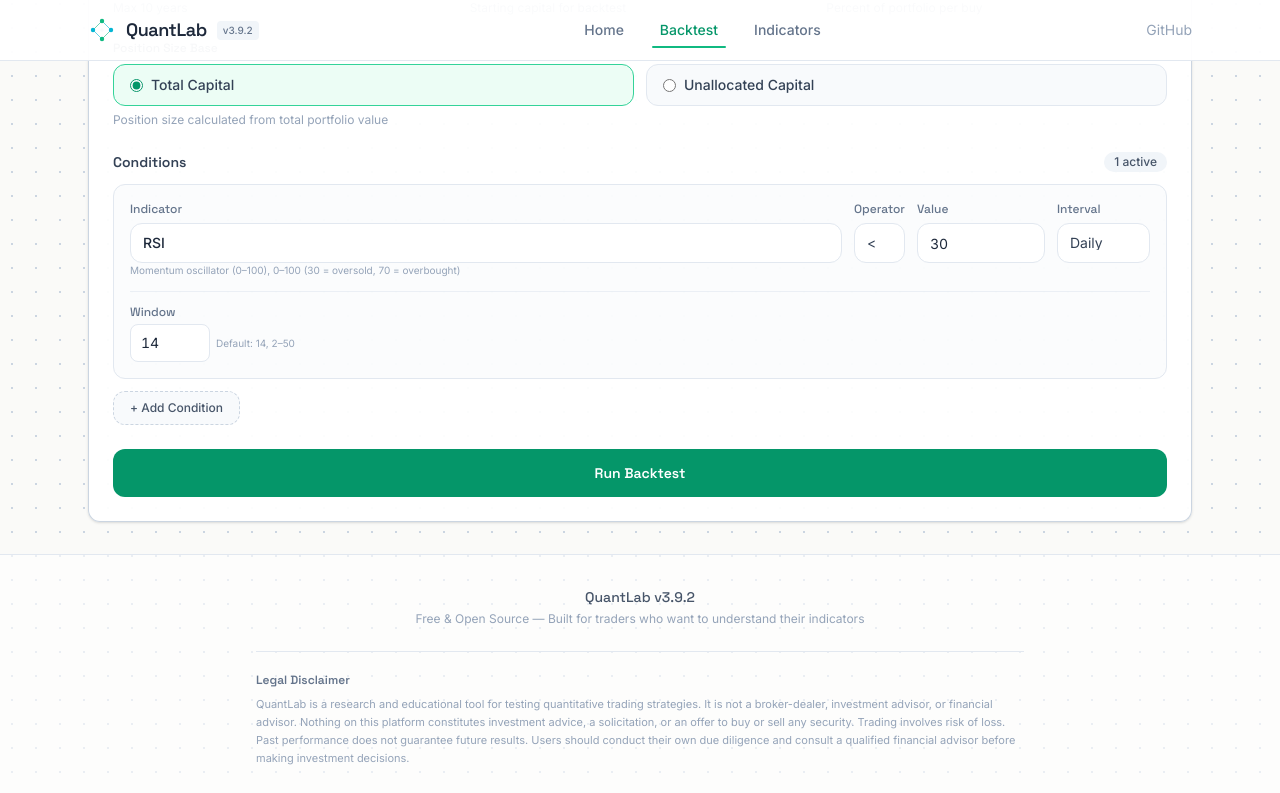
Test: App backtest error surfacing › shows the server-provided error detail
(page scrolled)
Click the button "Run Backtest": [640, 473] box [113, 449, 1167, 497]
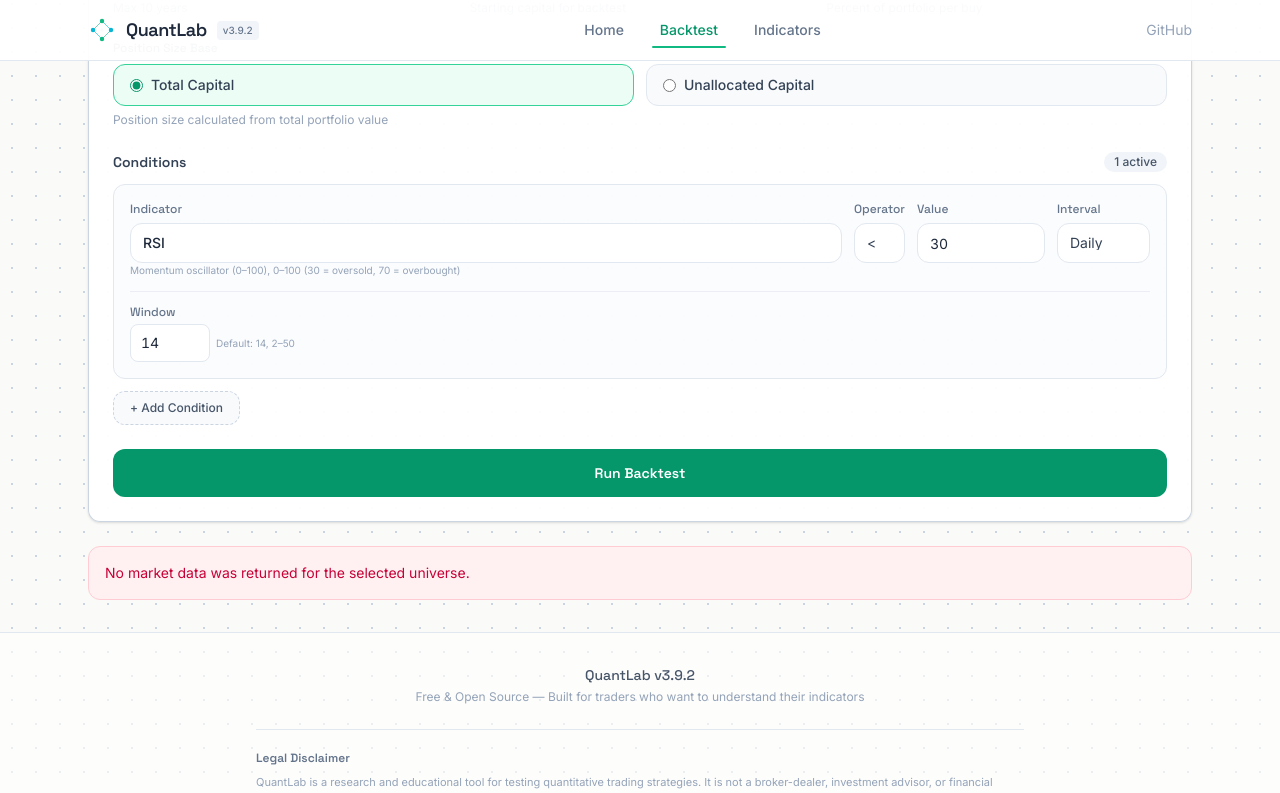
Check: the text "No market data was returned for the selected universe." is shown, box [88, 546, 1192, 600]
